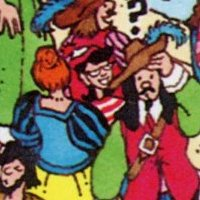wenda: (75, 42, 114, 97)
